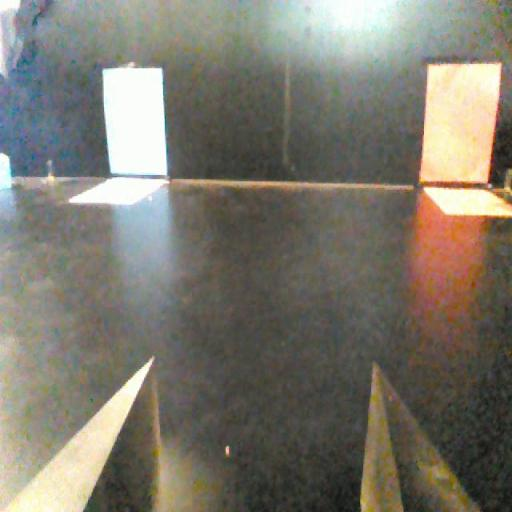cube: (0, 150, 14, 196)
